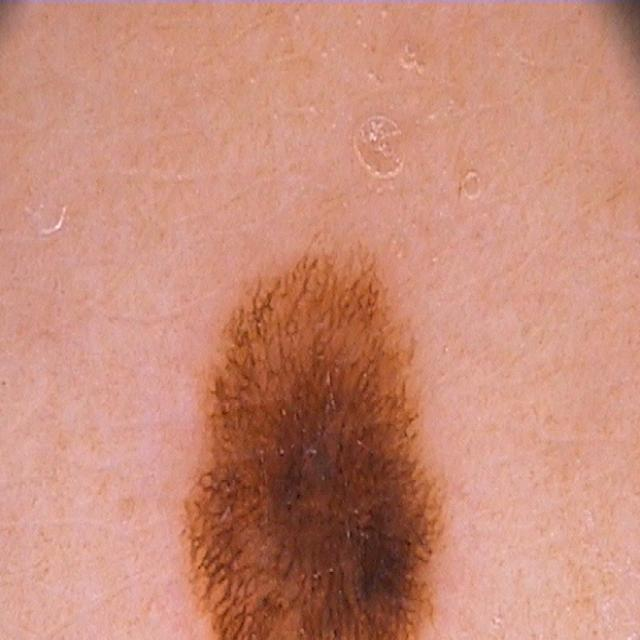Melanoma: (160, 207, 508, 640)
